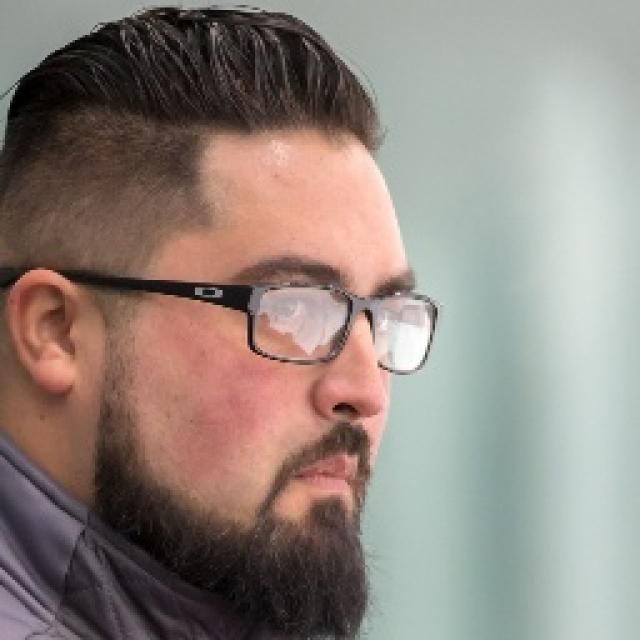earlobe: (40, 346, 78, 397)
eye: (264, 293, 310, 325), (372, 304, 396, 334)
nose: (310, 387, 402, 468)
wholeear: (6, 269, 78, 397)
